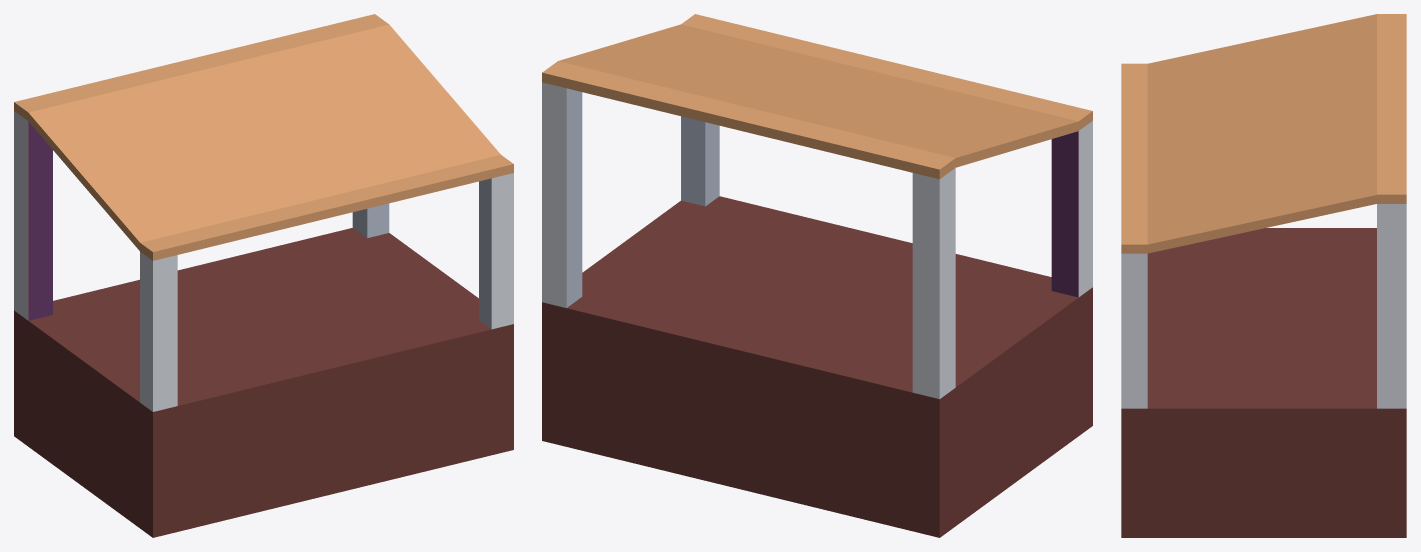
Rendered from PastorinoDesperesBenicio_4C__tiendaferia 1.fbx.
3 views of the same model, side by side, from view 1: azimuth 30°, elevation 25°; view 2: azimuth 150°, elevation 25°; view 3: azimuth 270°, elevation 25° (orthographic). The views are drawn at different scales.
Visible parts, largest first — view 1: Cube; view 2: Cube; view 3: Cube.
Boxes of the visible parts, x1,y1,x2,y2 form: Cube: (14, 14, 513, 537); Cube: (542, 14, 1092, 537); Cube: (1121, 14, 1406, 537).
Bounding box in the file's own units: 390 × 345 × 260.
1 material, 1 textured.
